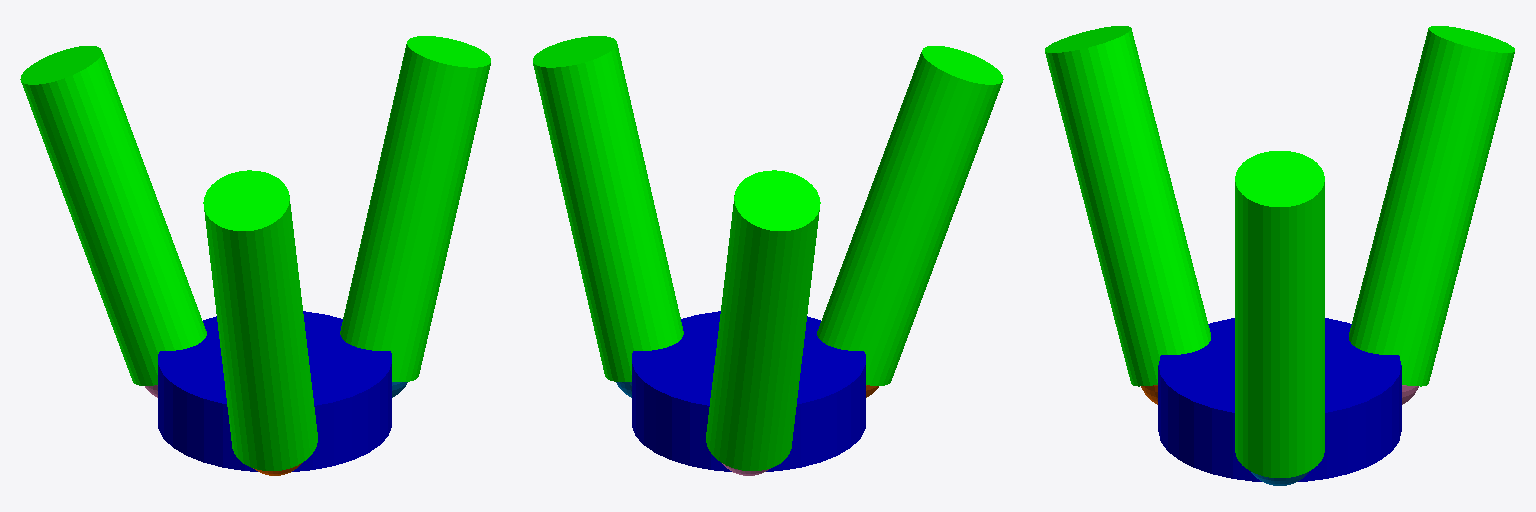
robot.urdf — gripper_3f_1j:
<?xml version='1.0' encoding='UTF-8'?>
<robot name="gripper_3f_1j">
  <link name="palm">
    <inertial>
      <origin xyz="0.0 0.0 0.0" rpy="0.0 -0.0 0.0"/>
      <mass value="1.0"/>
      <inertia ixx="1.0" ixy="0.0" ixz="0.0" iyy="1.0" iyz="0.0" izz="1.0"/>
    </inertial>
    <visual>
      <geometry>
        <cylinder radius="0.05" length="0.03"/>
      </geometry>
      <material name="blue"/>
      <origin xyz="0.0 0.0 0.0" rpy="0.0 -0.0 0.0"/>
    </visual>
    <collision>
      <geometry>
        <cylinder radius="0.05" length="0.03"/>
      </geometry>
      <origin xyz="0.0 0.0 0.0" rpy="0.0 0.0 0.0"/>
    </collision>
  </link>
  <link name="f11">
    <inertial>
      <origin xyz="0.0 0.0 0.0" rpy="0.0 -0.0 0.0"/>
      <mass value="1.0"/>
      <inertia ixx="1.0" ixy="0.0" ixz="0.0" iyy="1.0" iyz="0.0" izz="1.0"/>
    </inertial>
    <visual>
      <geometry>
        <cylinder radius="0.01847077660854132" length="0.1439794767303284"/>
      </geometry>
      <material name="green"/>
      <origin xyz="0.0 0.0 0.0719897383651642" rpy="0.0 -0.0 0.0"/>
    </visual>
    <collision>
      <geometry>
        <cylinder radius="0.01847077660854132" length="0.1439794767303284"/>
      </geometry>
      <origin xyz="0.0 0.0 0.05" rpy="0.0 0.0 0.0"/>
    </collision>
  </link>
  <link name="f21">
    <inertial>
      <origin xyz="0.0 0.0 0.0" rpy="0.0 -0.0 0.0"/>
      <mass value="1.0"/>
      <inertia ixx="1.0" ixy="0.0" ixz="0.0" iyy="1.0" iyz="0.0" izz="1.0"/>
    </inertial>
    <visual>
      <geometry>
        <cylinder radius="0.01847077660854132" length="0.1439794767303284"/>
      </geometry>
      <material name="green"/>
      <origin xyz="0.0 0.0 0.0719897383651642" rpy="0.0 -0.0 0.0"/>
    </visual>
    <collision>
      <geometry>
        <cylinder radius="0.01847077660854132" length="0.1439794767303284"/>
      </geometry>
      <origin xyz="0.0 0.0 0.05" rpy="0.0 0.0 0.0"/>
    </collision>
  </link>
  <link name="f31">
    <inertial>
      <origin xyz="0.0 0.0 0.0" rpy="0.0 -0.0 0.0"/>
      <mass value="1.0"/>
      <inertia ixx="1.0" ixy="0.0" ixz="0.0" iyy="1.0" iyz="0.0" izz="1.0"/>
    </inertial>
    <visual>
      <geometry>
        <cylinder radius="0.01847077660854132" length="0.1439794767303284"/>
      </geometry>
      <material name="green"/>
      <origin xyz="0.0 0.0 0.0719897383651642" rpy="0.0 -0.0 0.0"/>
    </visual>
    <collision>
      <geometry>
        <cylinder radius="0.01847077660854132" length="0.1439794767303284"/>
      </geometry>
      <origin xyz="0.0 0.0 0.05" rpy="0.0 0.0 0.0"/>
    </collision>
  </link>
  <link name="f11_base">
    <inertial>
      <origin xyz="0.0 0.0 0.0" rpy="0.0 -0.0 0.0"/>
      <mass value="1.0"/>
      <inertia ixx="1.0" ixy="0.0" ixz="0.0" iyy="1.0" iyz="0.0" izz="1.0"/>
    </inertial>
    <visual>
      <geometry>
        <sphere radius="0.015"/>
      </geometry>
      <origin xyz="0.0 0.0 0.0" rpy="0.0 -0.0 0.0"/>
    </visual>
  </link>
  <link name="f21_base">
    <inertial>
      <origin xyz="0.0 0.0 0.0" rpy="0.0 -0.0 0.0"/>
      <mass value="1.0"/>
      <inertia ixx="1.0" ixy="0.0" ixz="0.0" iyy="1.0" iyz="0.0" izz="1.0"/>
    </inertial>
    <visual>
      <geometry>
        <sphere radius="0.015"/>
      </geometry>
      <origin xyz="0.0 0.0 0.0" rpy="0.0 -0.0 0.0"/>
    </visual>
  </link>
  <link name="f31_base">
    <inertial>
      <origin xyz="0.0 0.0 0.0" rpy="0.0 -0.0 0.0"/>
      <mass value="1.0"/>
      <inertia ixx="1.0" ixy="0.0" ixz="0.0" iyy="1.0" iyz="0.0" izz="1.0"/>
    </inertial>
    <visual>
      <geometry>
        <sphere radius="0.015"/>
      </geometry>
      <origin xyz="0.0 0.0 0.0" rpy="0.0 -0.0 0.0"/>
    </visual>
  </link>
  <joint name="f11_joint" type="revolute">
    <dynamics damping="100.0" friction="1.0"/>
    <limit effort="30.0" velocity="2.0" lower="-0.65" upper="0.25"/>
    <parent link="f11_base"/>
    <child link="f11"/>
    <axis xyz="0. 1. 0."/>
    <origin xyz="0.0 0.0 0.0" rpy="0.0 0.25 0.0"/>
  </joint>
  <joint name="f21_joint" type="revolute">
    <dynamics damping="100.0" friction="1.0"/>
    <limit effort="30.0" velocity="2.0" lower="-0.65" upper="0.25"/>
    <mimic joint="f11_joint" multiplier="1.0" offset="0.0"/>
    <parent link="f21_base"/>
    <child link="f21"/>
    <axis xyz=" 0.70710678 -0.70710678  0.        "/>
    <origin xyz="0.0 0.0 0.0" rpy="0.25 -0.25 0.0"/>
  </joint>
  <joint name="f31_joint" type="revolute">
    <dynamics damping="100.0" friction="1.0"/>
    <limit effort="30.0" velocity="2.0" lower="-0.65" upper="0.25"/>
    <mimic joint="f11_joint" multiplier="1.0" offset="0.0"/>
    <parent link="f31_base"/>
    <child link="f31"/>
    <axis xyz="-0.70710678 -0.70710678  0.        "/>
    <origin xyz="0.0 0.0 0.0" rpy="-0.25 -0.25 0.0"/>
  </joint>
  <joint name="f11_base_joint" type="fixed">
    <parent link="palm"/>
    <child link="f11_base"/>
    <axis xyz="1. 0. 0."/>
    <origin xyz="0.05 0.0 0.0" rpy="0.0 0.0 0.0"/>
  </joint>
  <joint name="f21_base_joint" type="fixed">
    <parent link="palm"/>
    <child link="f21_base"/>
    <axis xyz="1. 0. 0."/>
    <origin xyz="-0.025 -0.043301270189222 0.0" rpy="0.0 0.0 0.0"/>
  </joint>
  <joint name="f31_base_joint" type="fixed">
    <parent link="palm"/>
    <child link="f31_base"/>
    <axis xyz="1. 0. 0."/>
    <origin xyz="-0.025 0.043301270189222 0.0" rpy="0.0 0.0 0.0"/>
  </joint>
  <material name="blue">
    <color rgba="0.  0.  0.8 1. "/>
  </material>
  <material name="green">
    <color rgba="0. 1. 0. 1."/>
  </material>
</robot>

--- Facts derived from the render (not from the file) ---
The picture shows the robot from 3 angles, left to right: view 1: azimuth 30°, elevation 25°; view 2: azimuth 150°, elevation 25°; view 3: azimuth 270°, elevation 25°; orthographic projection.
Model gripper_3f_1j with 7 links and 6 joints (3 revolute, 3 fixed), rooted at palm, posed every joint at zero.
Visible links, largest first — view 1: f11, f31, f21, palm; view 2: f11, f21, f31, palm; view 3: f21, f31, f11, palm.
Link boxes in pixels (<box>): f11: <box>340,36,490,381</box>; f31: <box>20,46,206,385</box>; f21: <box>203,170,317,470</box>; palm: <box>158,311,391,471</box>; f11: <box>533,36,683,381</box>; f21: <box>817,46,1003,385</box>; f31: <box>706,170,820,470</box>; palm: <box>632,311,865,471</box>; f21: <box>1045,26,1210,386</box>; f31: <box>1349,26,1514,386</box>; f11: <box>1235,151,1324,477</box>; palm: <box>1158,318,1401,481</box>.
Size in the robot's own frame: 0.1809 by 0.1936 by 0.1591 metres.
Geometry: primitives only (box / cylinder / sphere), no mesh files.